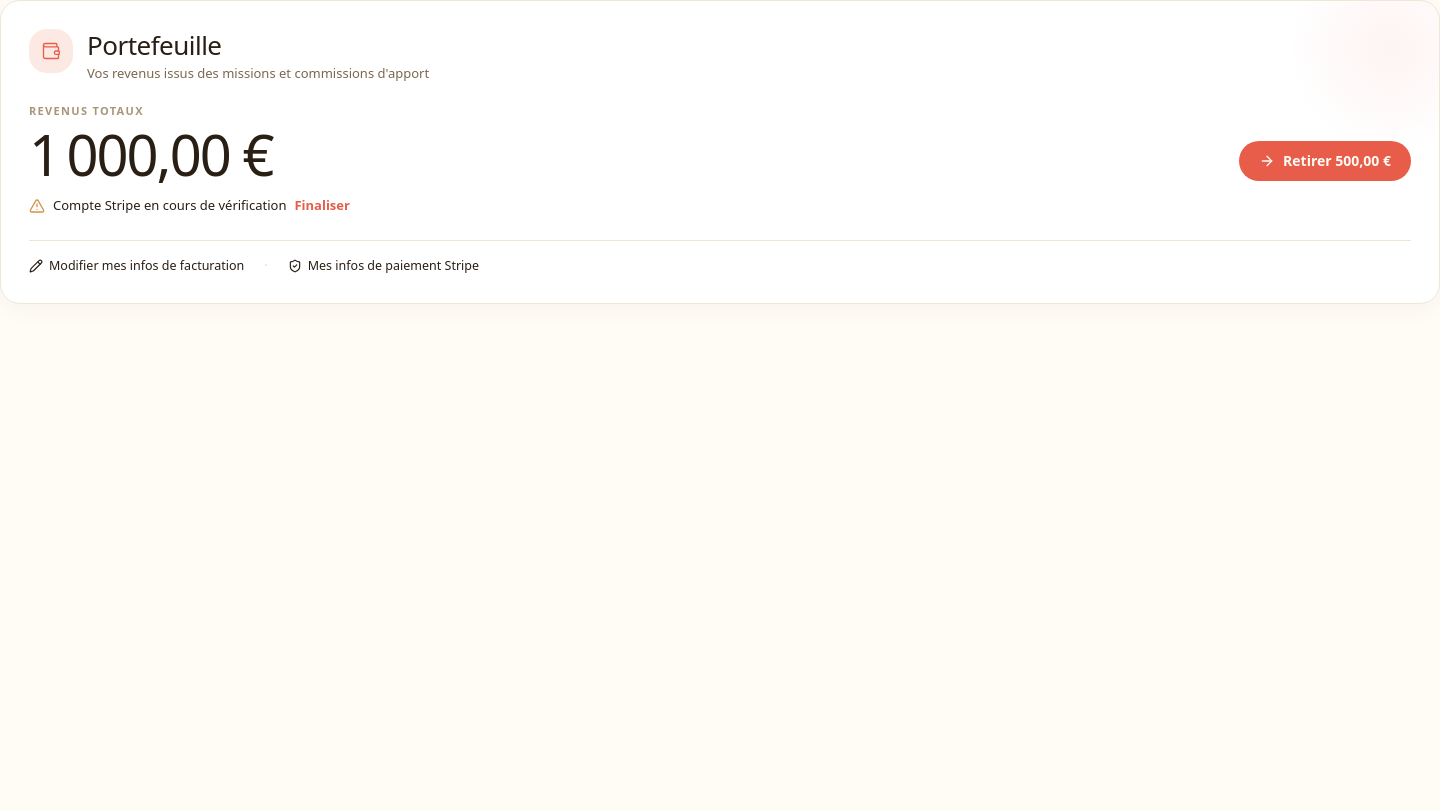
Test: WalletPayoutSection — modal close callbacks › dismisses the KYC modal when the secondary 'Plus tard' is clicked
Click the button "Retirer 500,00 €" at (1325,161), box [1239,141,1411,181]
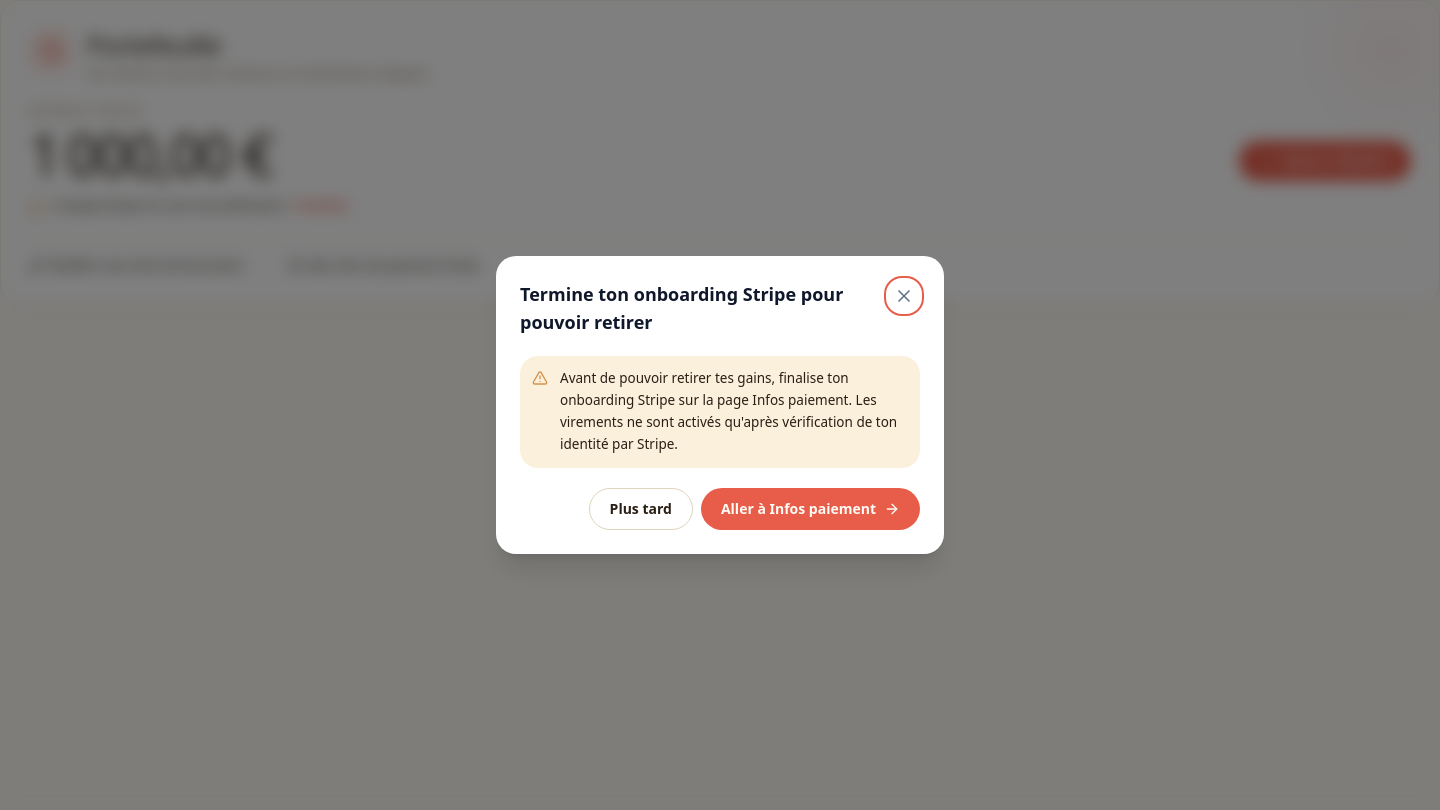
Check: the heading "Termine ton onboarding Stripe pour pouvoir retirer" is shown, box [520,280,876,336]
Click the button "Plus tard" at (641,509), box [589,488,693,530]
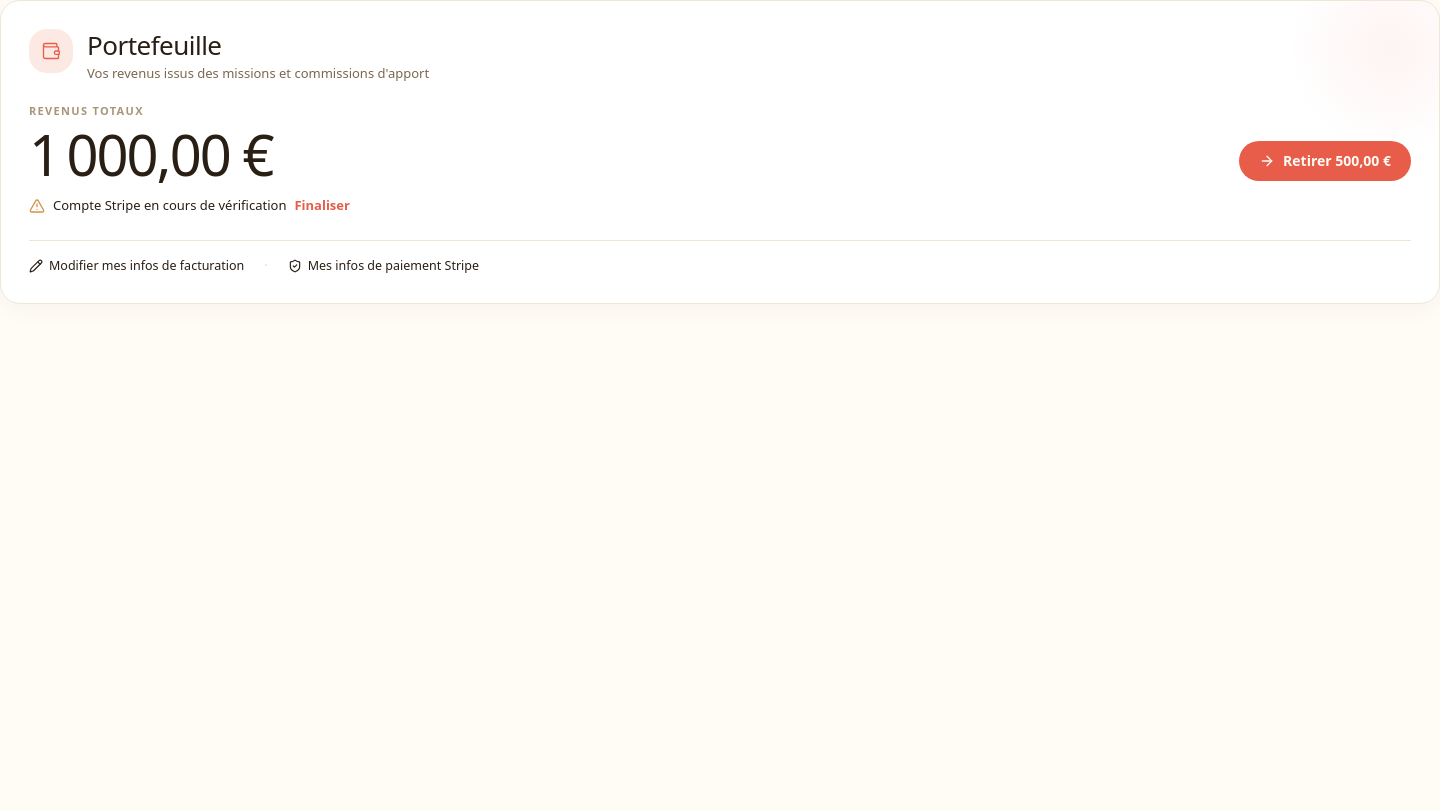
Check: the heading "Termine ton onboarding Stripe" is gone
